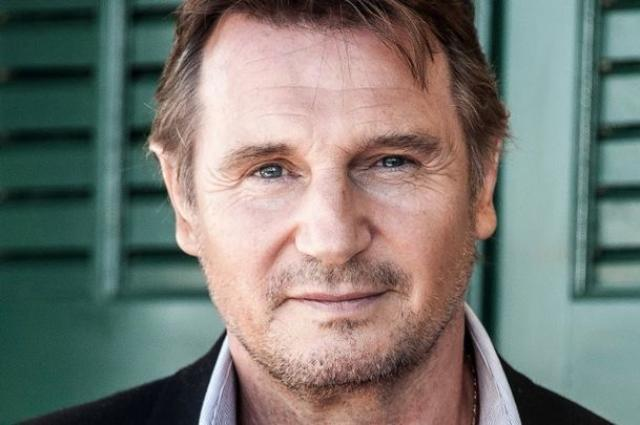crows_feet: (413, 152, 443, 184), (210, 168, 240, 196)
forehead: (274, 78, 350, 96), (360, 78, 414, 96), (258, 107, 310, 123), (352, 100, 388, 112)
frown_line: (334, 140, 356, 155)
gummy_smile: (268, 222, 290, 266)
